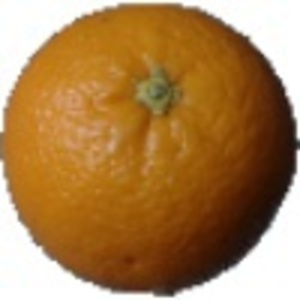laranja: (5, 3, 295, 297)
